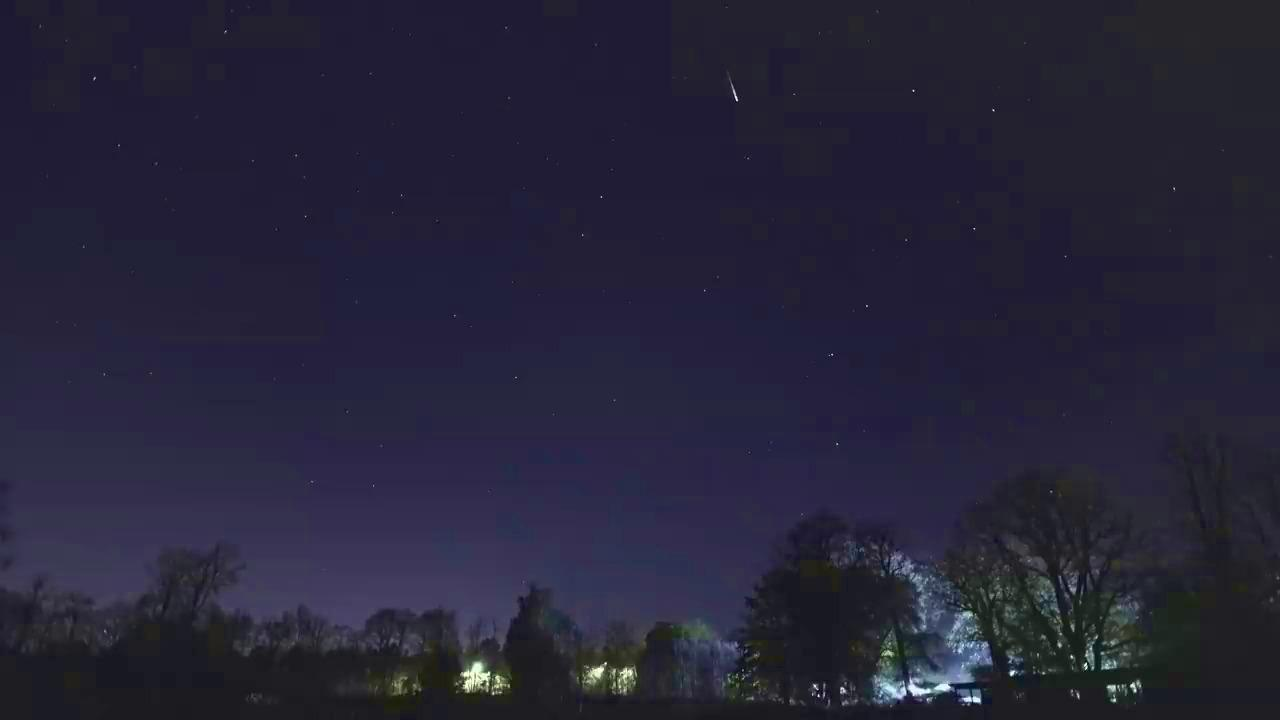meteorite: (671, 68, 790, 104)
